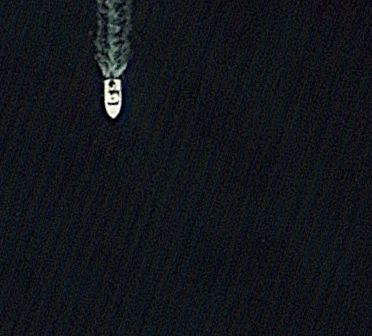boat: (101, 78, 124, 121)
